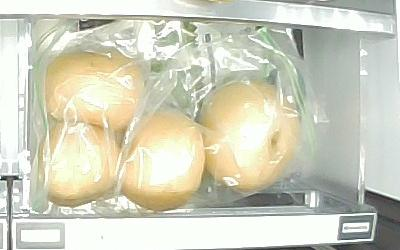pear_vinyl: (204, 80, 302, 193), (121, 112, 206, 212), (42, 51, 146, 128), (36, 122, 123, 209)
